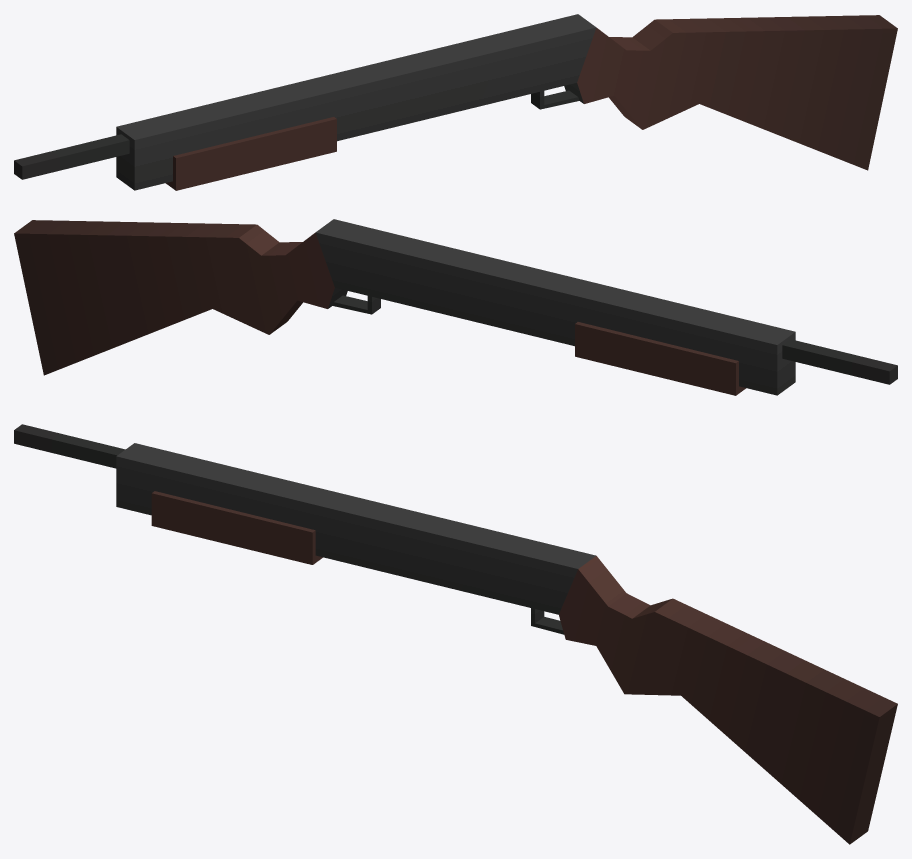
File: Shotgun.fbx
The picture shows the model from 3 angles, top to bottom: view 1: azimuth 30°, elevation 25°; view 2: azimuth 150°, elevation 25°; view 3: azimuth 330°, elevation 25°; orthographic projection.
Visible parts, largest first — view 1: Shotgun; view 2: Shotgun; view 3: Shotgun.
Boxes of the visible parts, x1,y1,x2,y2 form: Shotgun: [14, 14, 897, 190]; Shotgun: [14, 219, 897, 395]; Shotgun: [14, 424, 897, 844].
Bounding box in the file's own units: 109 × 25.06 × 5.28.
